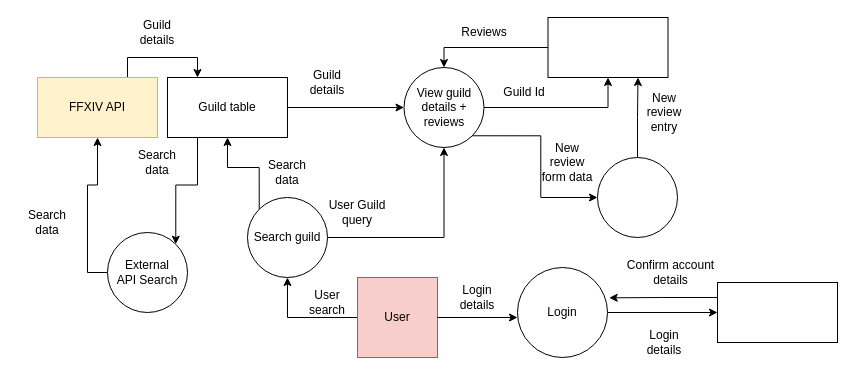
Image size: 855x375. Some labels were removed from this diagram. The shapes that lost their labels are listed below. From the top down, each one's box as (x1, y1, x2, y2) in pixels, then its label:
(547, 16, 668, 78): Review table
(596, 156, 678, 238): Create review
(716, 282, 838, 342): User table
